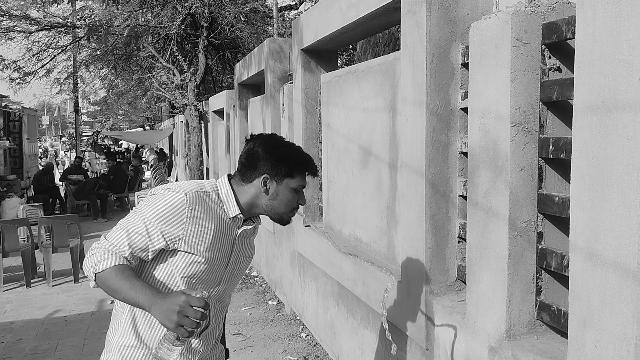spit: (236, 132, 408, 360)
